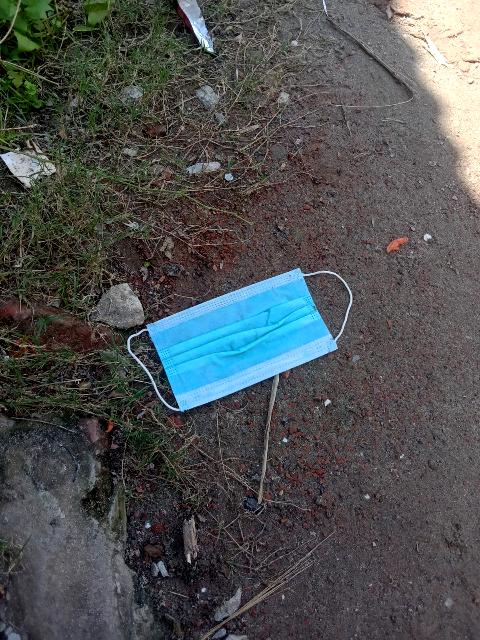mask: (113, 243, 389, 427)
